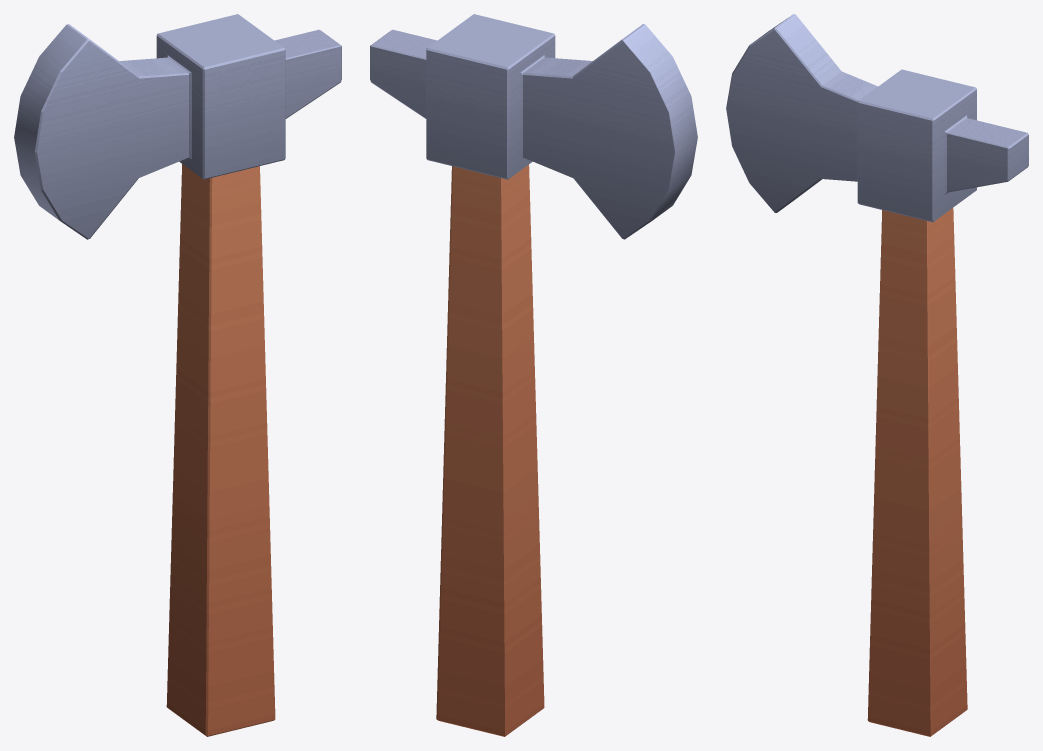
Rendered from kenney-survival__tool-axe.glb.
3 renders of one model, left to right at view 1: azimuth 30°, elevation 25°; view 2: azimuth 150°, elevation 25°; view 3: azimuth 330°, elevation 25°, orthographic. The views are drawn at different scales.
Parts seen in each view (by area): view 1: tool-axe; view 2: tool-axe; view 3: tool-axe.
Part boxes in pixels (box(x1,y1,x2,y2)): tool-axe: box(14, 14, 341, 736); tool-axe: box(370, 14, 697, 736); tool-axe: box(726, 14, 1028, 736).
Size of the model in its own units: 0.1145 by 0.2556 by 0.0309.
1 material, 1 textured.
